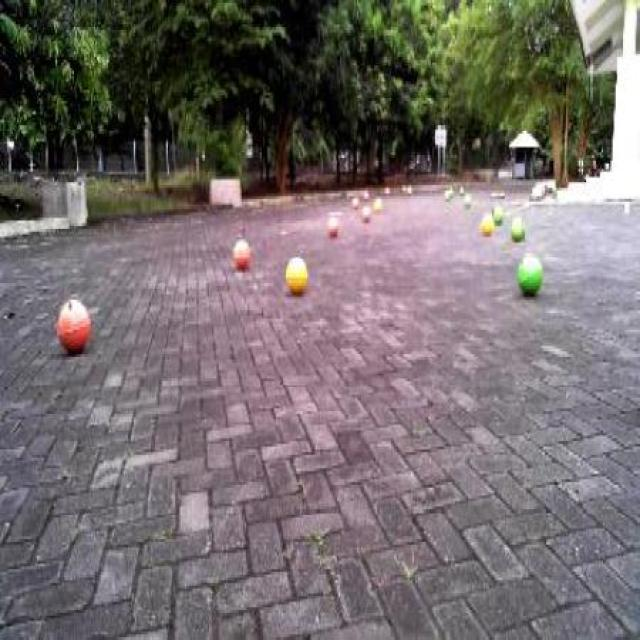buoy: (49, 280, 100, 366), (508, 238, 552, 315), (279, 241, 315, 301), (225, 219, 259, 279), (502, 204, 532, 251), (321, 204, 344, 245), (477, 207, 496, 242)
